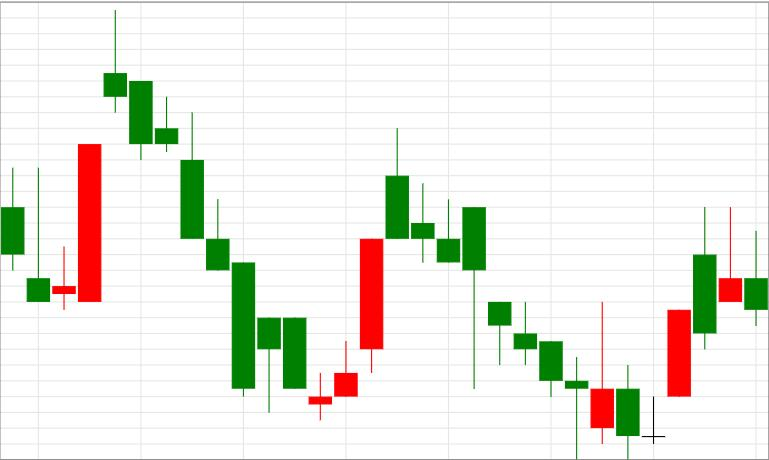hammer_rise: (104, 11, 281, 412)
inverse_hammer_rise: (386, 128, 614, 459)
morning_star_rise: (104, 11, 358, 421), (386, 128, 691, 459)
